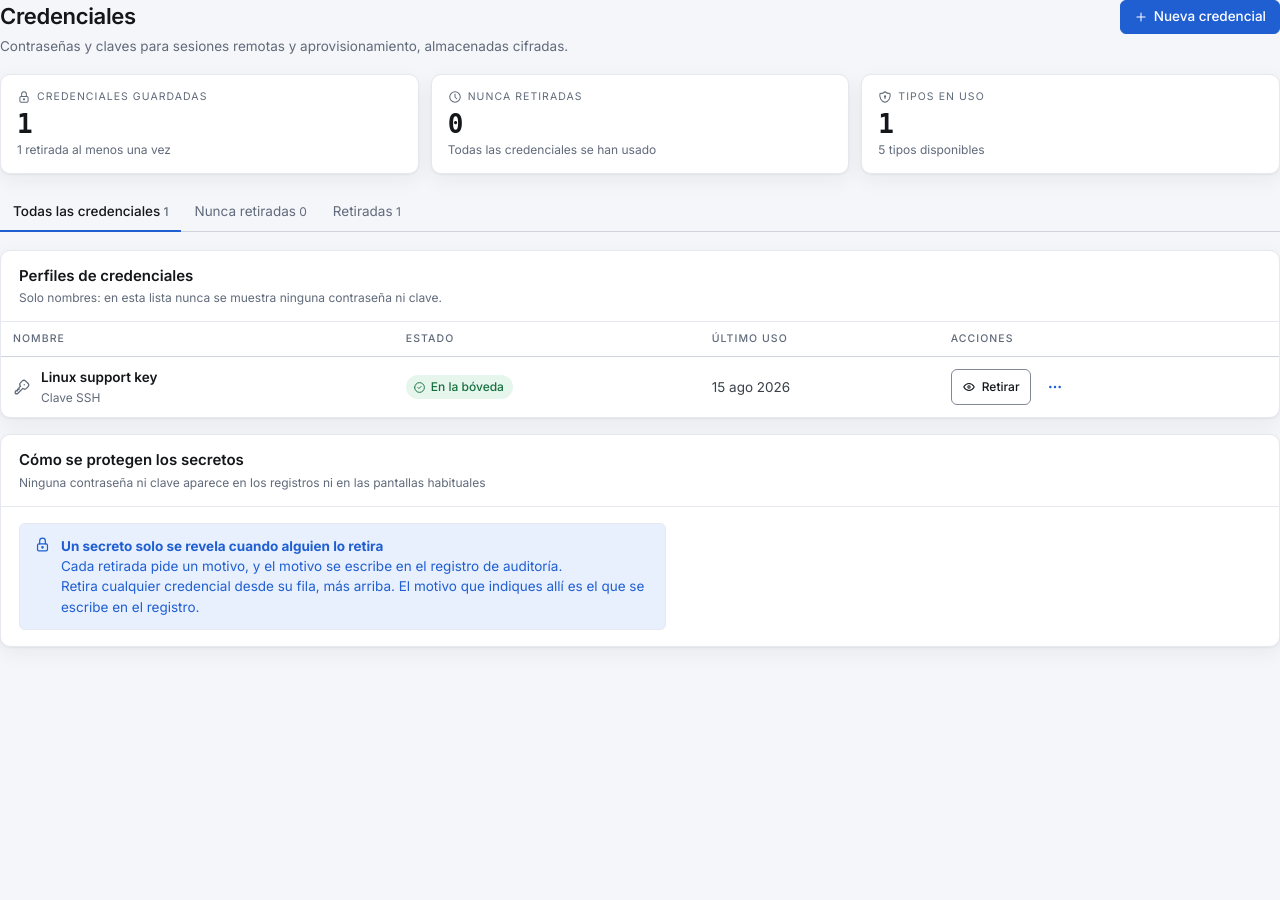
the credentials page in Spanish › confirms a delete in Spanish, naming the type, and words a refusal
Expected: the text "Linux support key" is shown, [41,367,157,387]
Click the button named "Más acciones para Linux support key": [1054, 387] box [1036,369,1072,405]
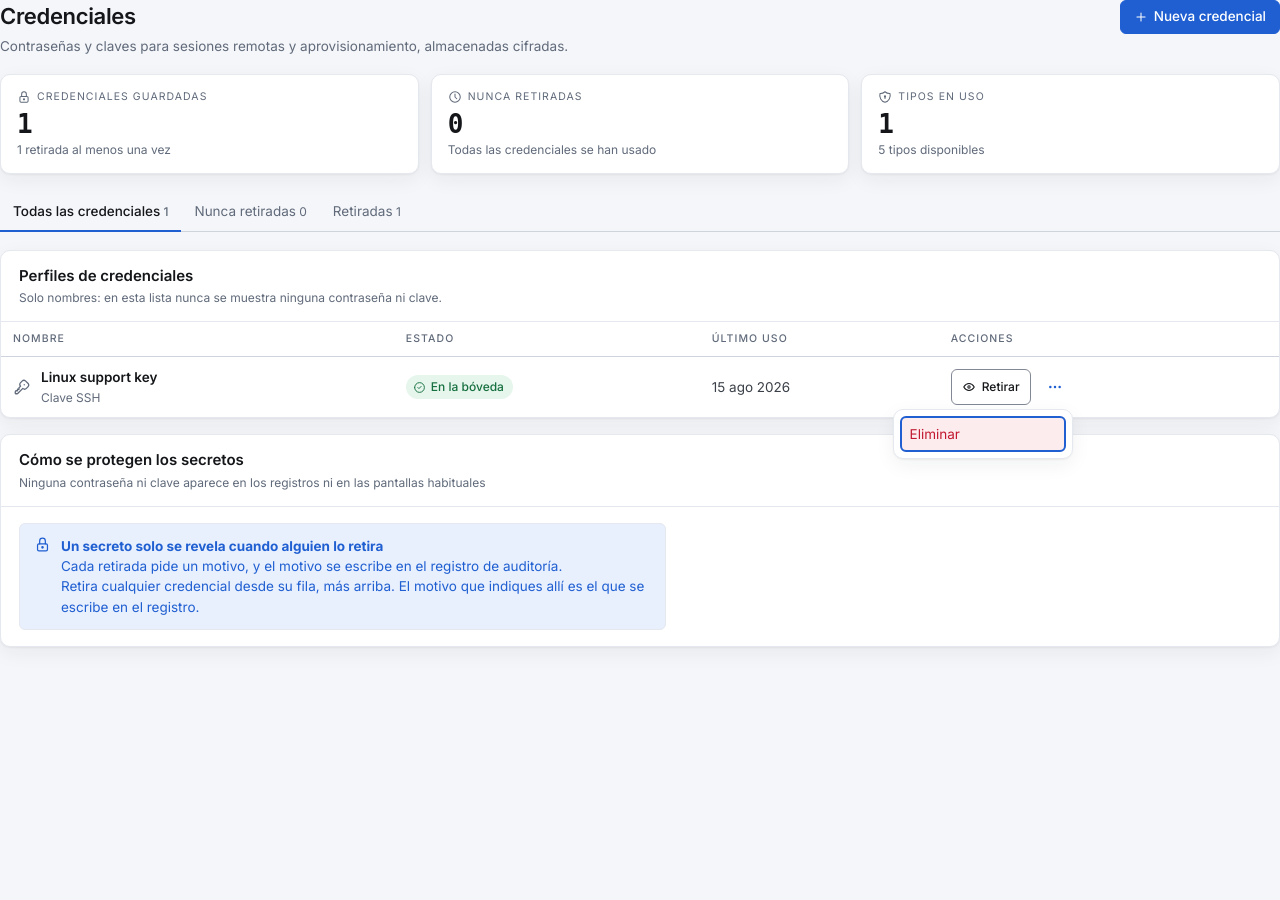
Click the menu item "Eliminar": [982, 434] box [900,416,1066,452]
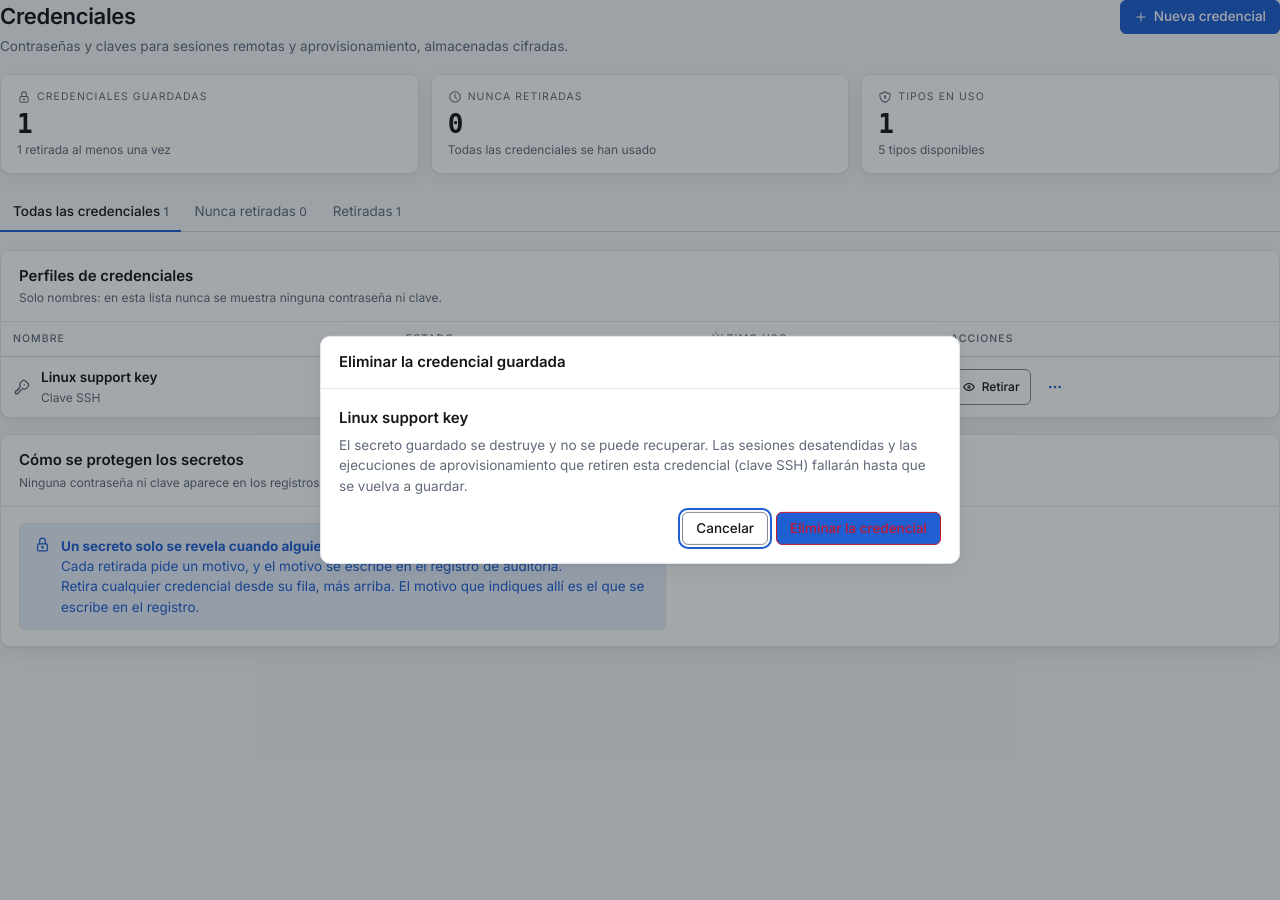
Result: the heading "Eliminar la credencial guardada" is shown at [339,351,566,373]
Result: the text "que retiren esta credencial (clave SSH) fallarán" is shown at [339,437,926,493]
Click the button "Eliminar la credencial": [858, 528] box [776,512,941,545]
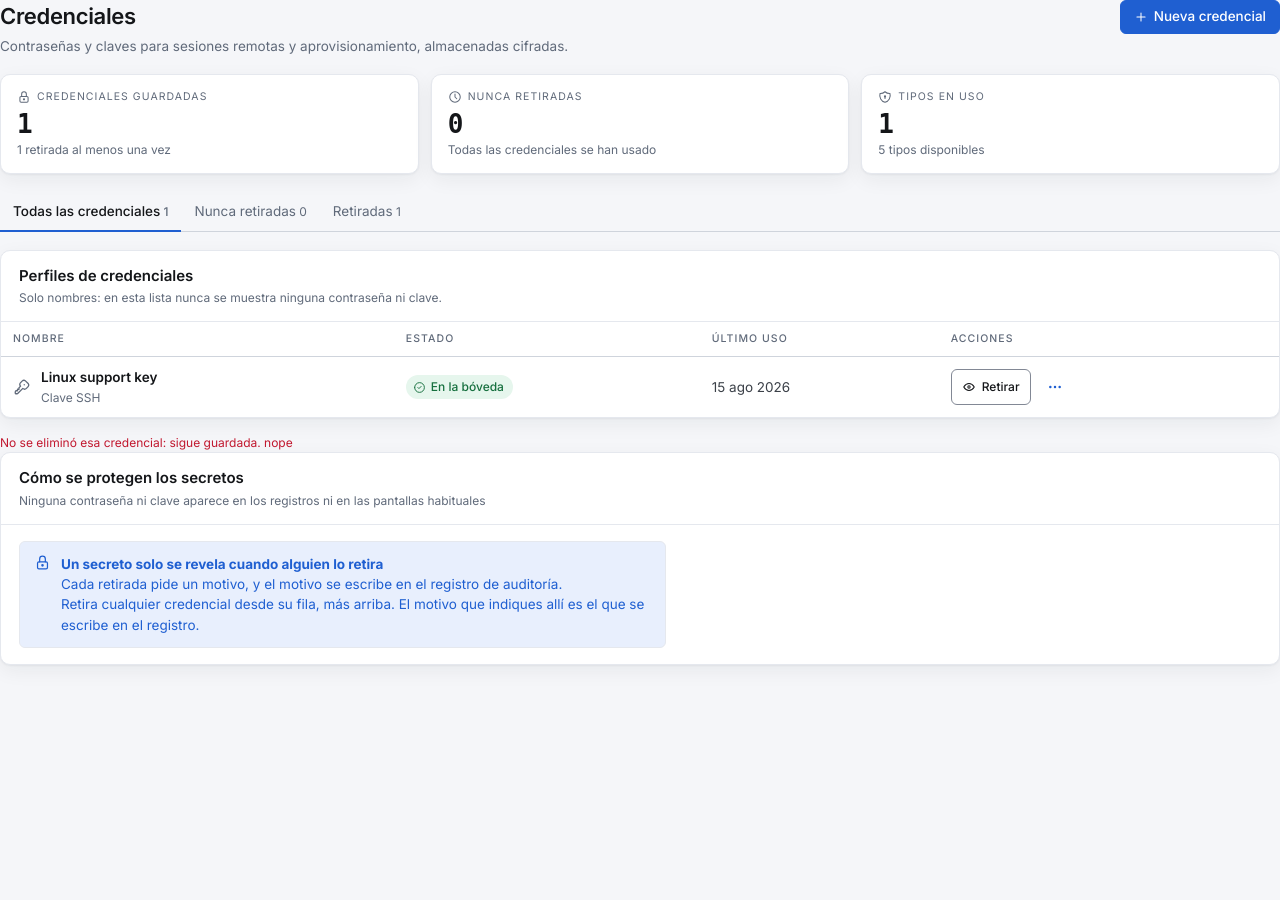
Result: the text "No se eliminó esa credencial: sigue guardada. nope" is shown at [0,435,293,450]
